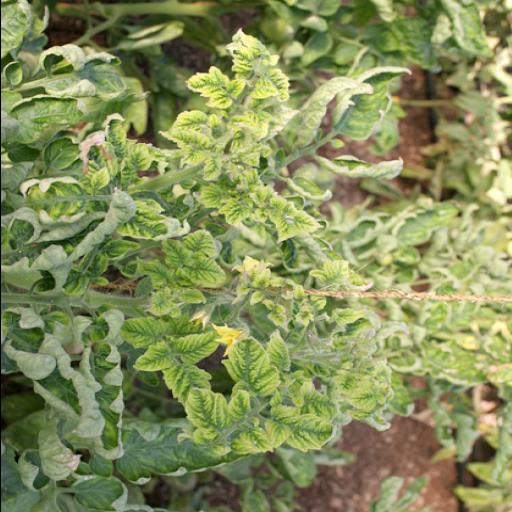disease_tomato: (330, 66, 415, 142), (228, 34, 292, 108), (263, 396, 335, 457), (222, 337, 284, 405), (256, 188, 316, 253), (156, 112, 240, 154), (20, 176, 94, 222), (178, 380, 232, 436), (184, 65, 246, 113), (161, 230, 215, 278), (159, 334, 230, 366), (116, 319, 177, 350), (174, 255, 232, 287), (123, 204, 169, 242), (121, 344, 171, 374), (310, 258, 350, 292), (102, 110, 128, 154), (216, 196, 258, 222), (348, 382, 380, 414)
